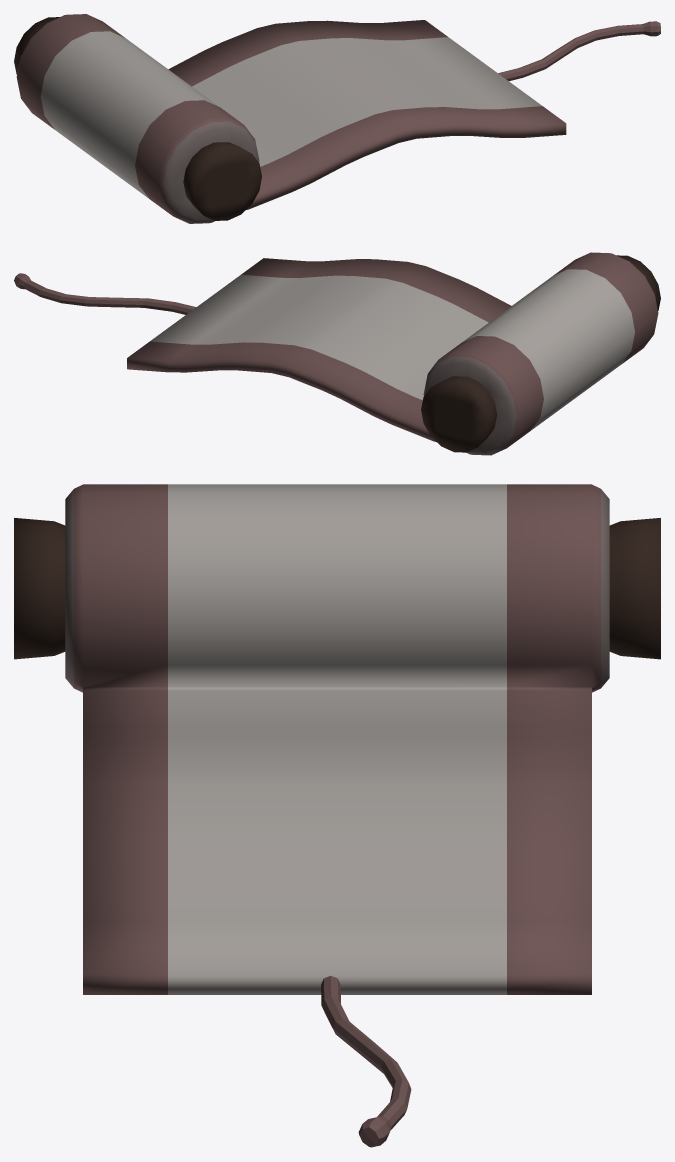
The model's file is Pergaminho.fbx.
The picture shows the model from 3 angles, top to bottom: view 1: azimuth 30°, elevation 25°; view 2: azimuth 150°, elevation 25°; view 3: azimuth 270°, elevation 25°; orthographic projection. The views are drawn at different scales.
Parts seen in each view (by area): view 1: Pergaminho_LOD0; view 2: Pergaminho_LOD0; view 3: Pergaminho_LOD0.
Boxes of the visible parts, x1=… form: Pergaminho_LOD0: x1=14, y1=14, x2=660, y2=223; Pergaminho_LOD0: x1=14, y1=252, x2=660, y2=455; Pergaminho_LOD0: x1=14, y1=484, x2=660, y2=1147.
Size of what is drawn, in the model's own units: 64.06 by 11.04 by 34.19.
